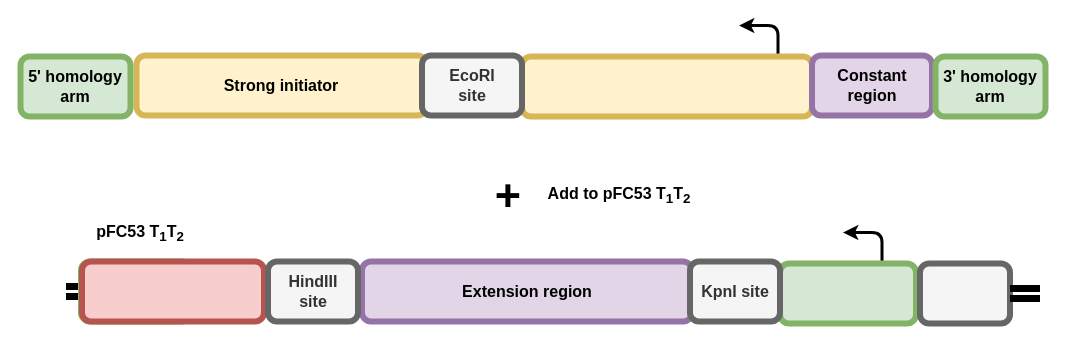
Image size: 1065x344. Some labels were removed from this diagram. The centre of each missing label's shape, as x and y in pixels:
"T 1 T 2 Terminators" goes at [172,291].
"Tac promoter" goes at [847,293].
"Variable region (VR)" goes at [666,86].
"XbaI" goes at [964,293].
